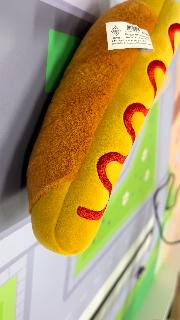hotdog: (26, 1, 180, 257)
